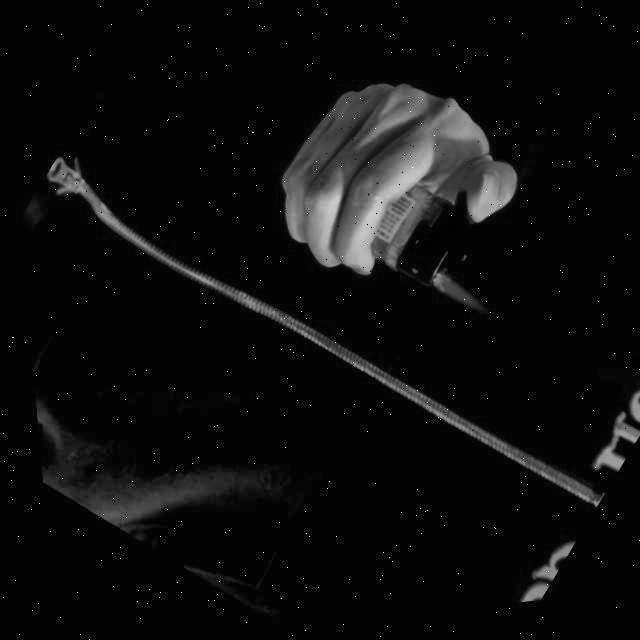Fire: (420, 272, 497, 338)
